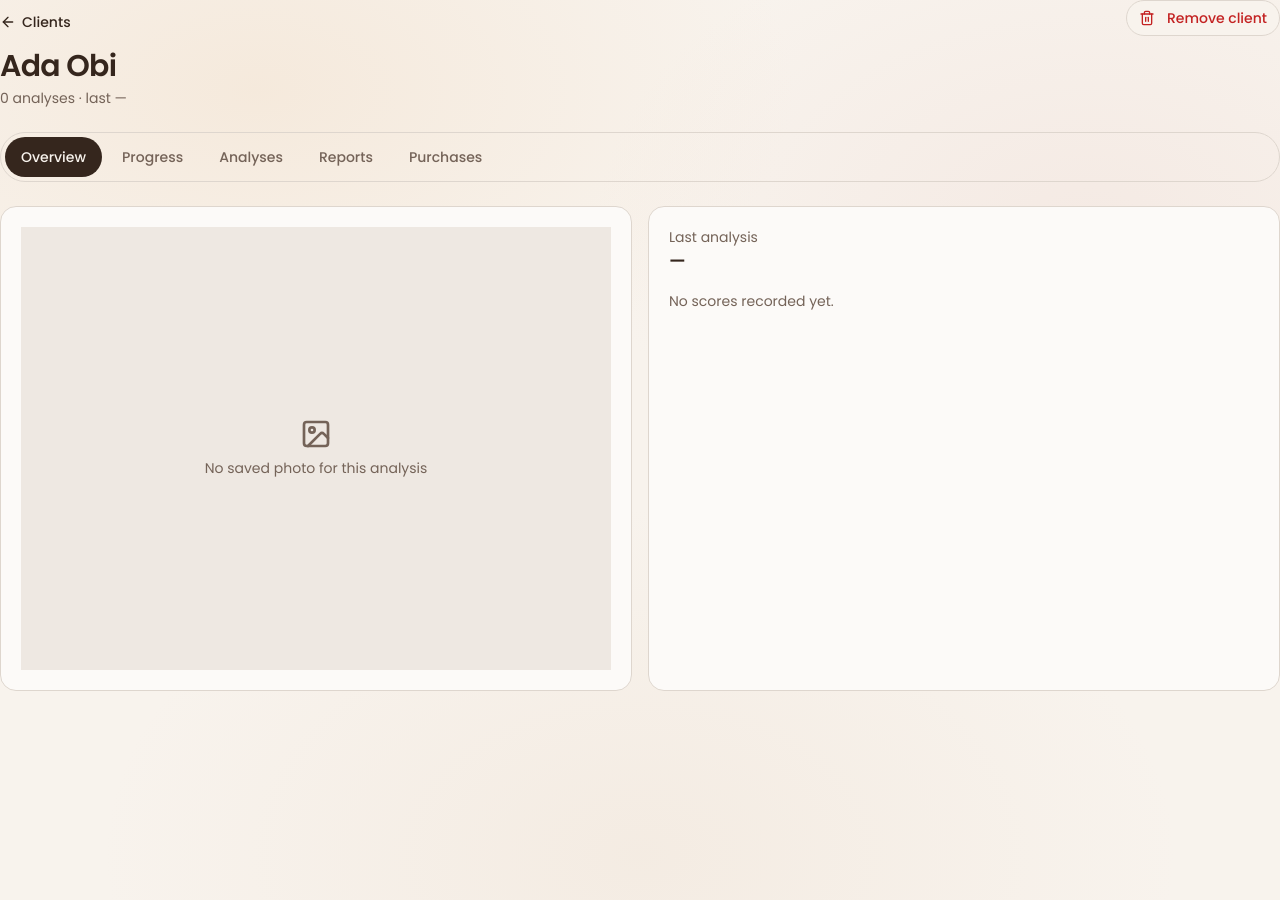
Remove client › describes archive semantics, not a regulatory data erasure
The image size is (1280, 900).
Click the button "Remove client". click: (1203, 18)
box: [1126,0,1279,36]
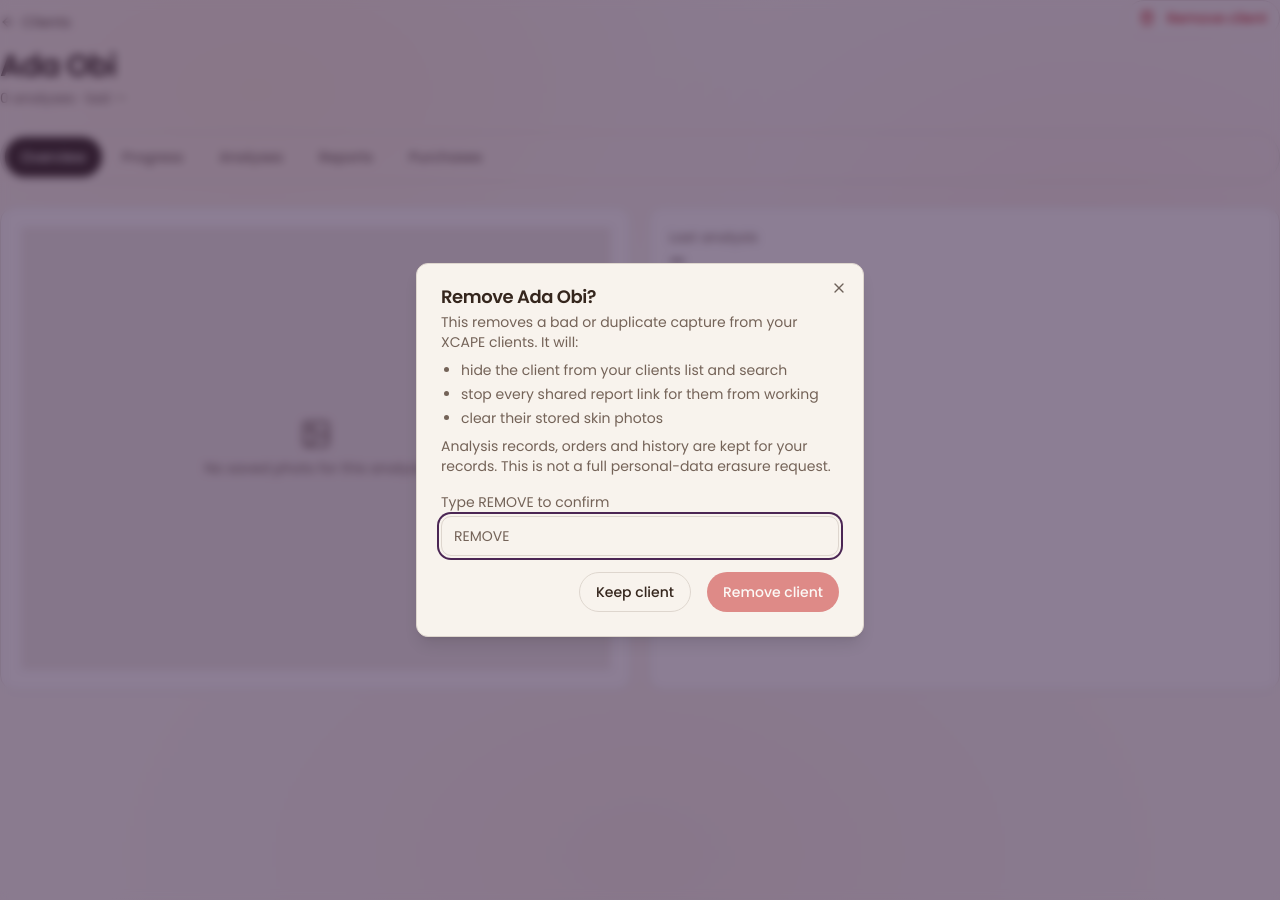
Check: the list item "stop every shared report link for them from working" is shown, box [461,384,839,404]
Check: the list item "clear their stored skin photos" is shown, box [461,408,663,428]
Check: the text "not a full personal-data erasure" is shown, box [441,436,831,476]
